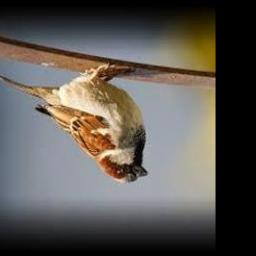Sparrow: (0, 63, 148, 183)
